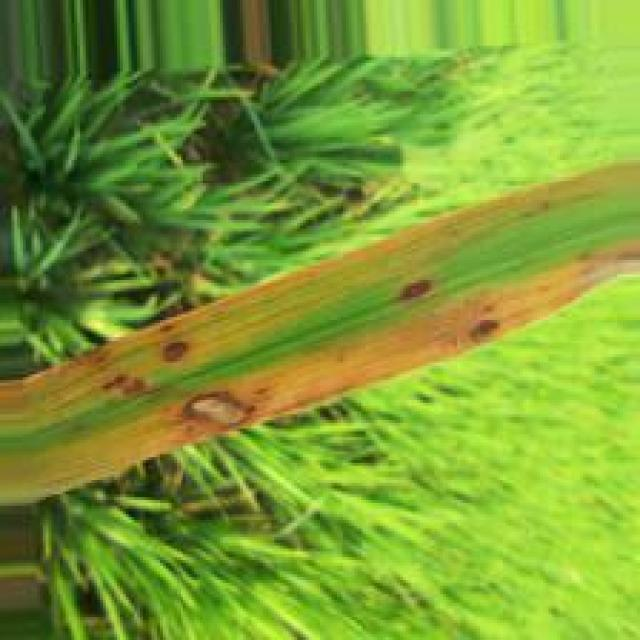Leaf_Blast: (0, 235, 636, 516), (1, 171, 633, 429)
